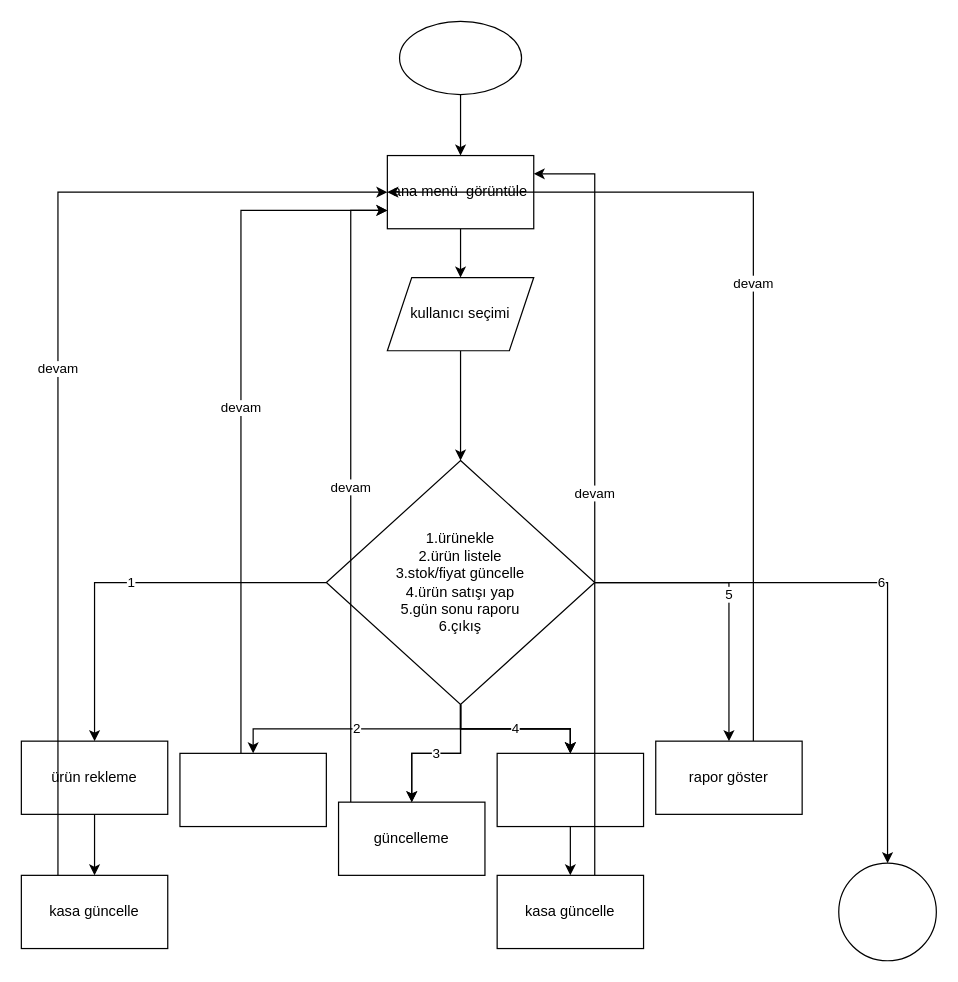
This 958x982 diagram has some shape labels left out. The shapes that lost their labels are listed below. From the top down, each one's centre as x and y in pixels, then its label:
At point (460, 57): "başla".
At point (252, 789): "ürün listeleme".
At point (570, 789): "satış işlemi".
At point (887, 911): "bitiş".
